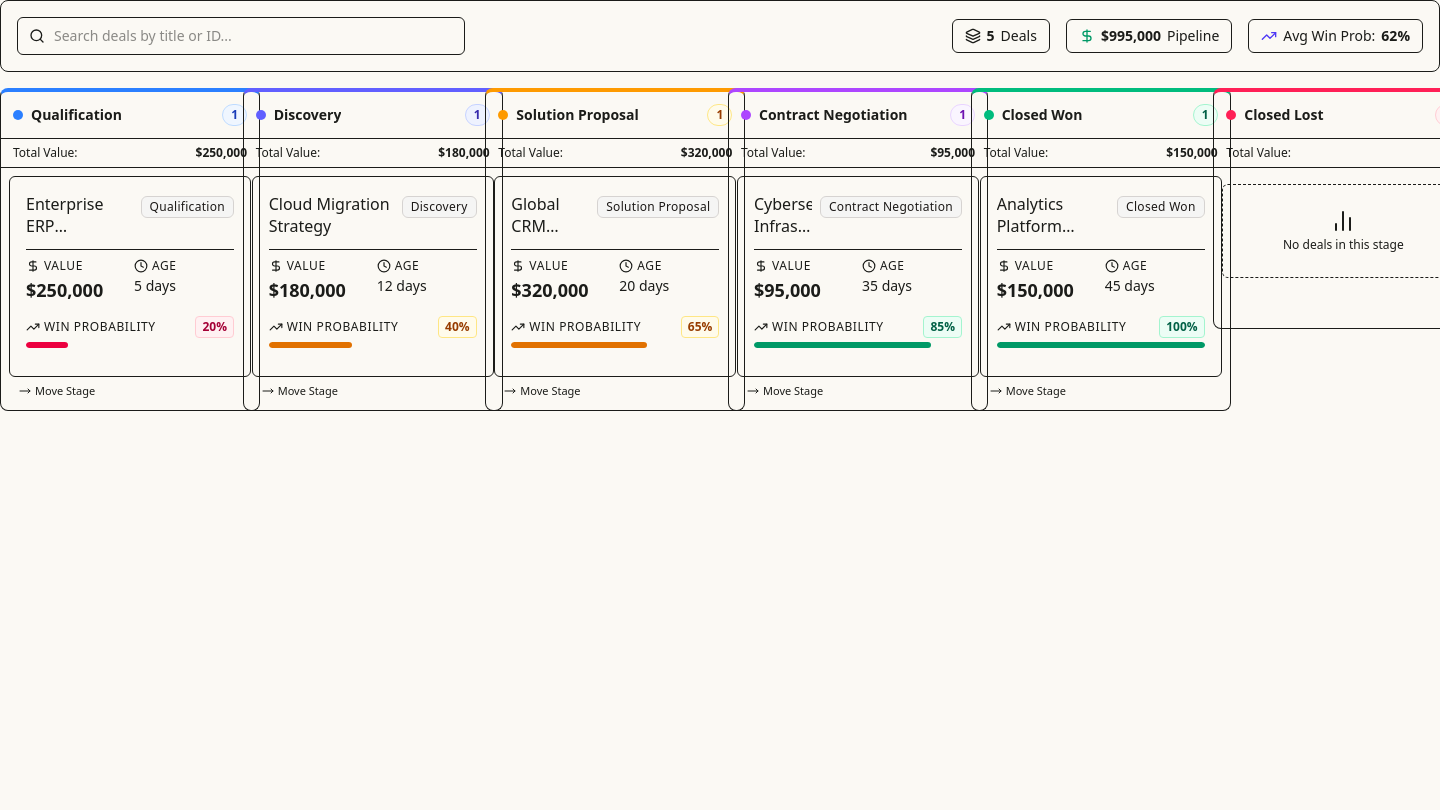
Test case: Board Component [FR-001, FR-003, NFR-001] › Stage Transitions & Interaction [FR-003, NFR-001] › reverts optimistic stage change on API failure and displays toast notification
Click the button with test id "move-stage-btn-deal-001" at (57, 391), box x1=13 y1=381 x2=101 y2=402
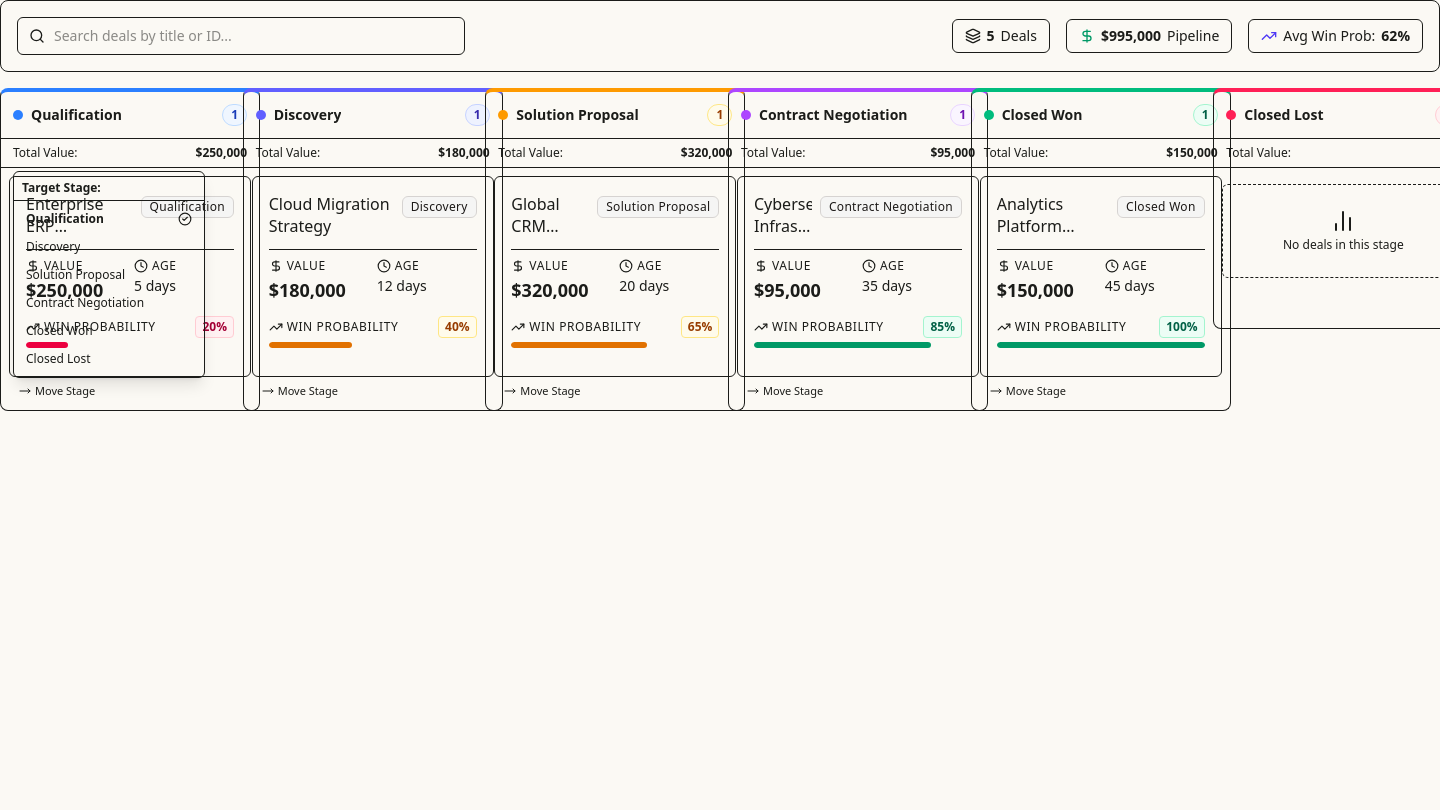
Click the button with test id "move-option-deal-001-Discovery" at (109, 246), box x1=14 y1=232 x2=204 y2=260
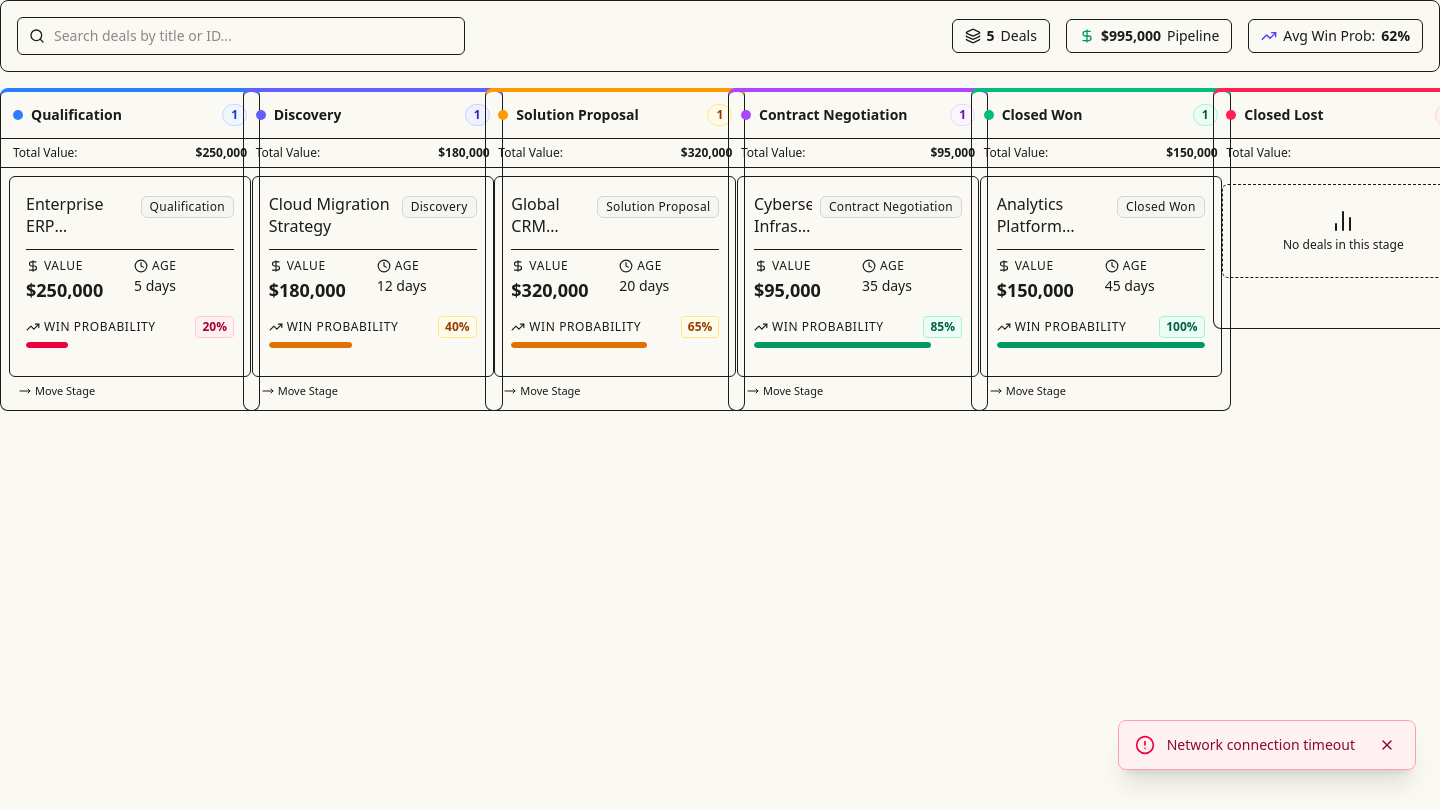
Expected: the text with test id "column-count-Qualification" reads "1", x1=231 y1=106 x2=238 y2=123
Expected: the message with test id "board-toast-notification" reads "Network connection timeout", x1=1167 y1=735 x2=1355 y2=754
